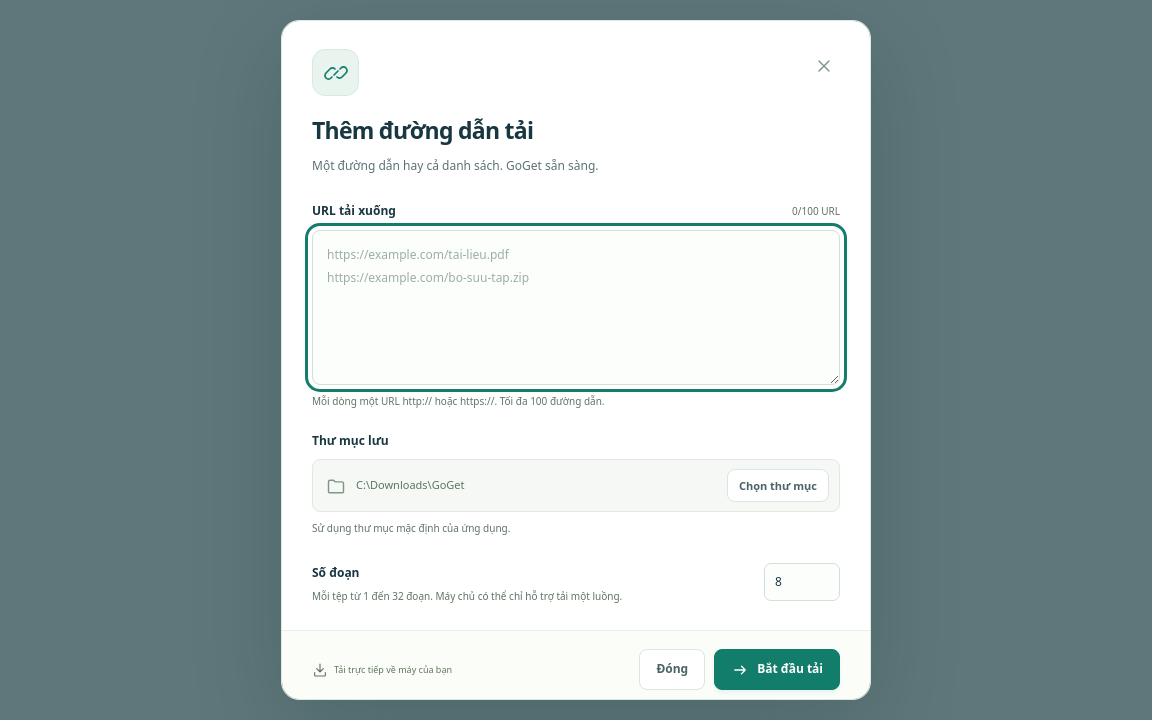
Scenario: Add URLs dialog › rejects invalid segment count 0 before calling the backend
The image size is (1152, 720).
Replace the text in the text box labelled "URL tải xuống" with "https://example.com/a" at (576, 308), box [312,230,840,385]
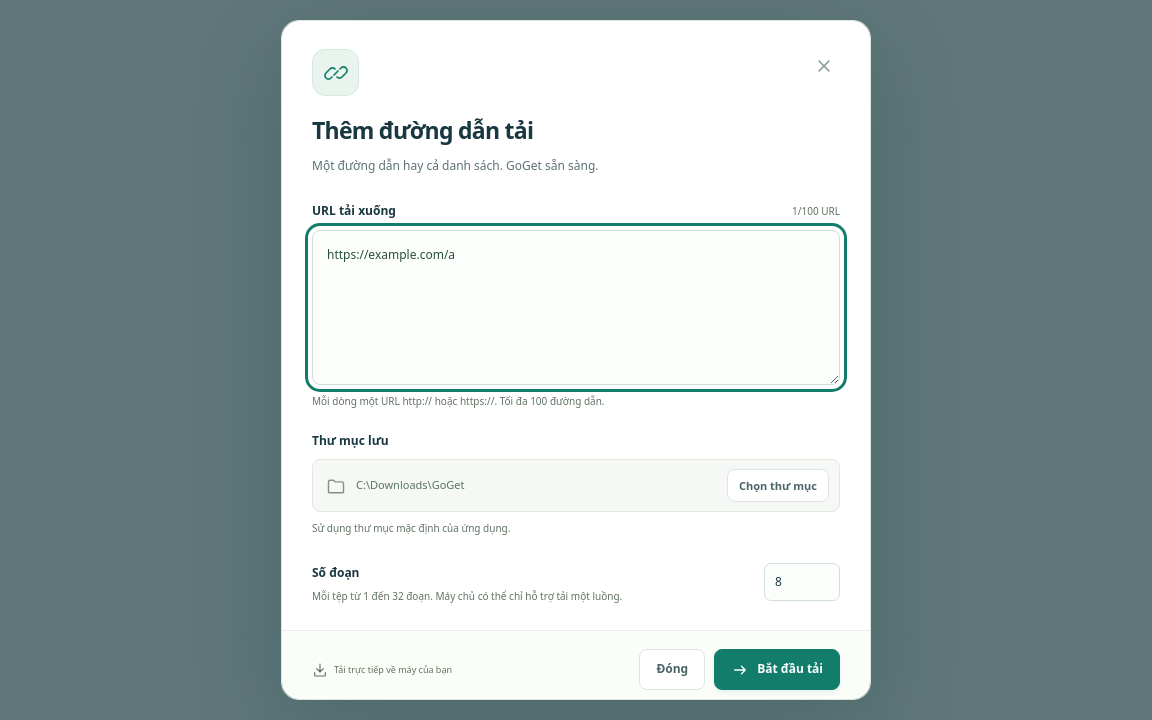
Replace the text in the number field labelled "Số đoạn" with "0" at (802, 582), box [764,563,840,601]
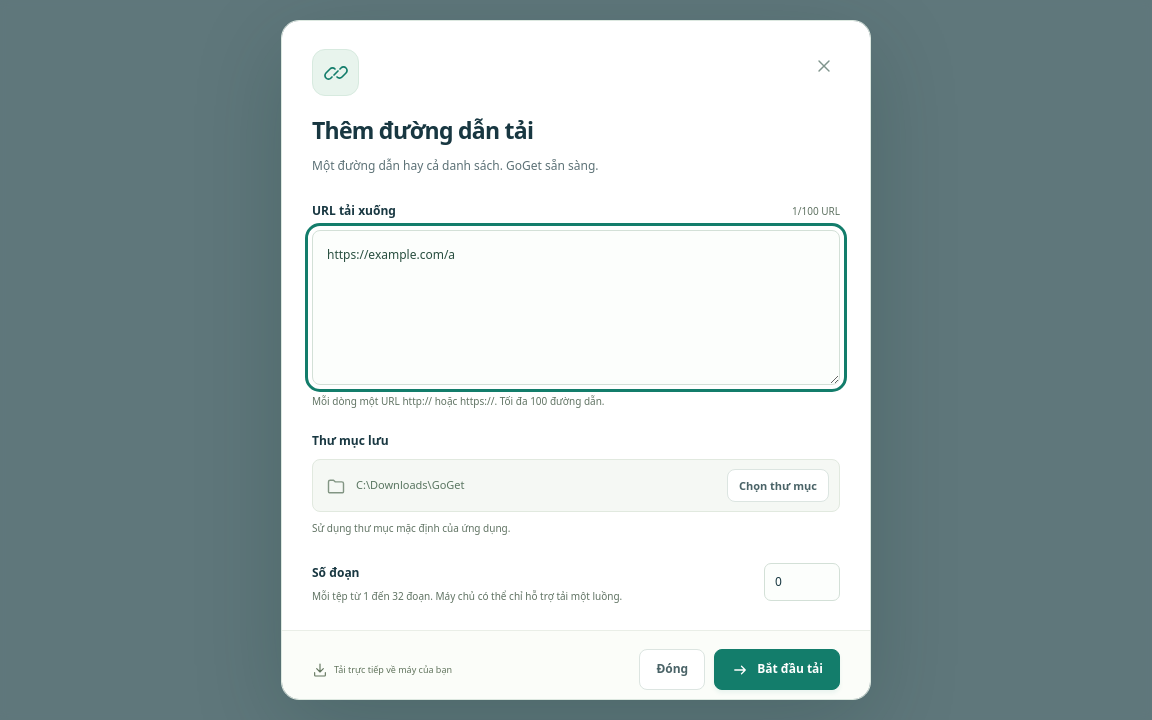
Click the button "Bắt đầu tải" at (777, 670), box [714,649,840,690]
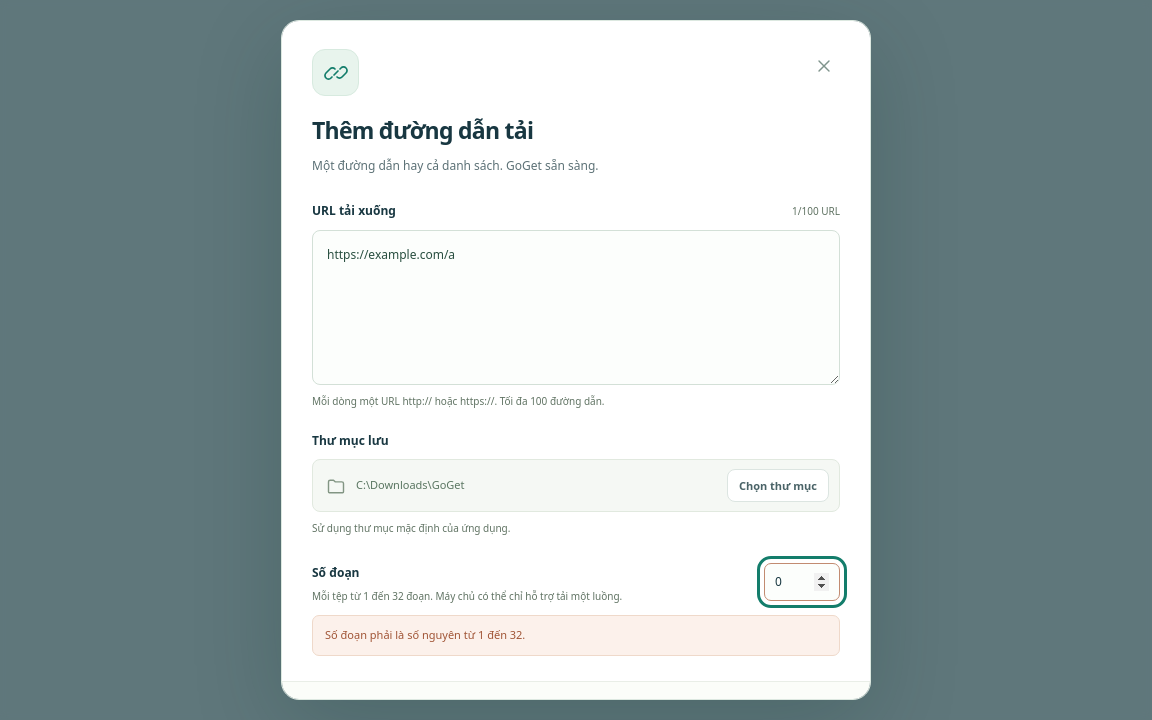
Check: the message shows "Số đoạn phải là số nguyên từ 1 đến 32", box [325,627,525,642]
